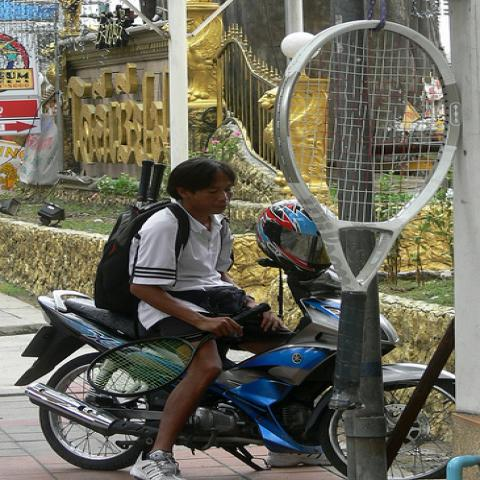motorcycle: (11, 198, 459, 479)
